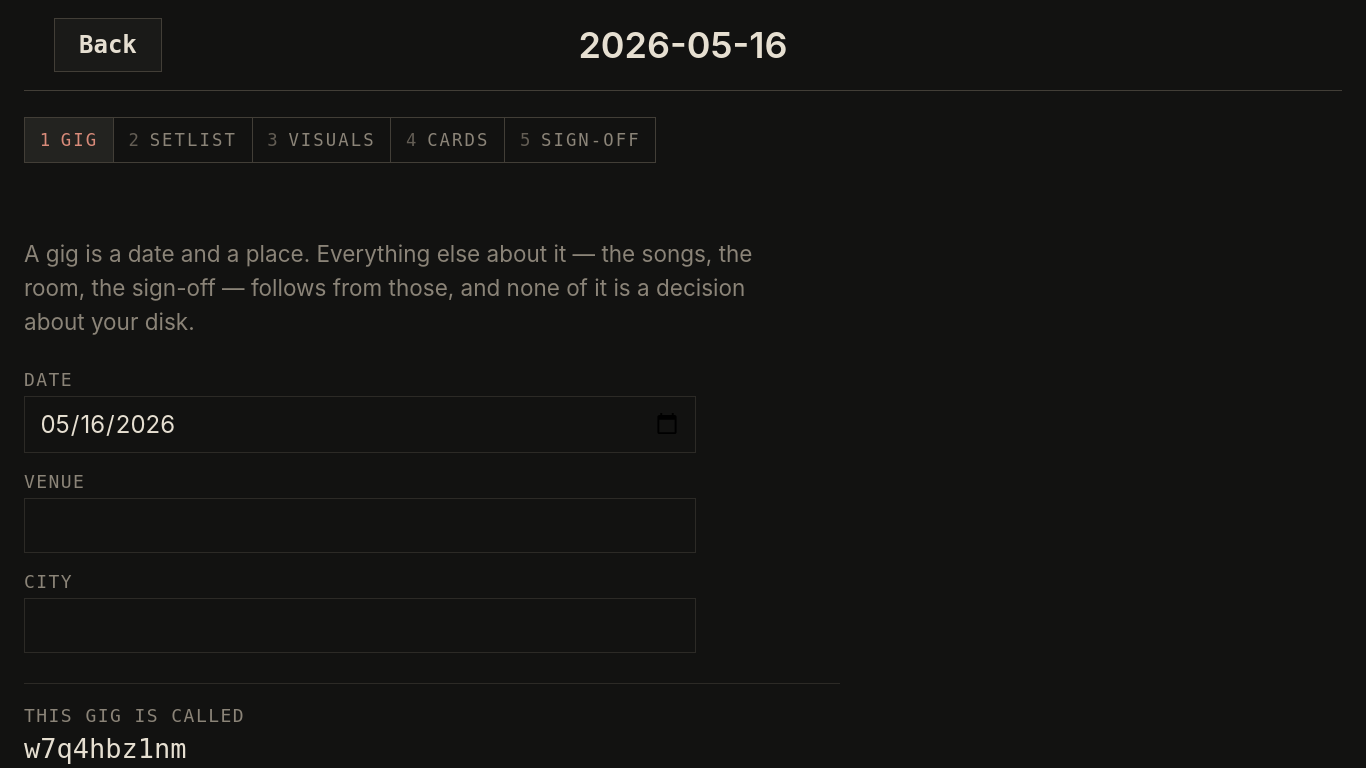
the check screen › fails the gig line when the night has no venue
Click the button with test id "gig-flow-step-5" at (580, 140), box left=505, top=118, right=655, bottom=162
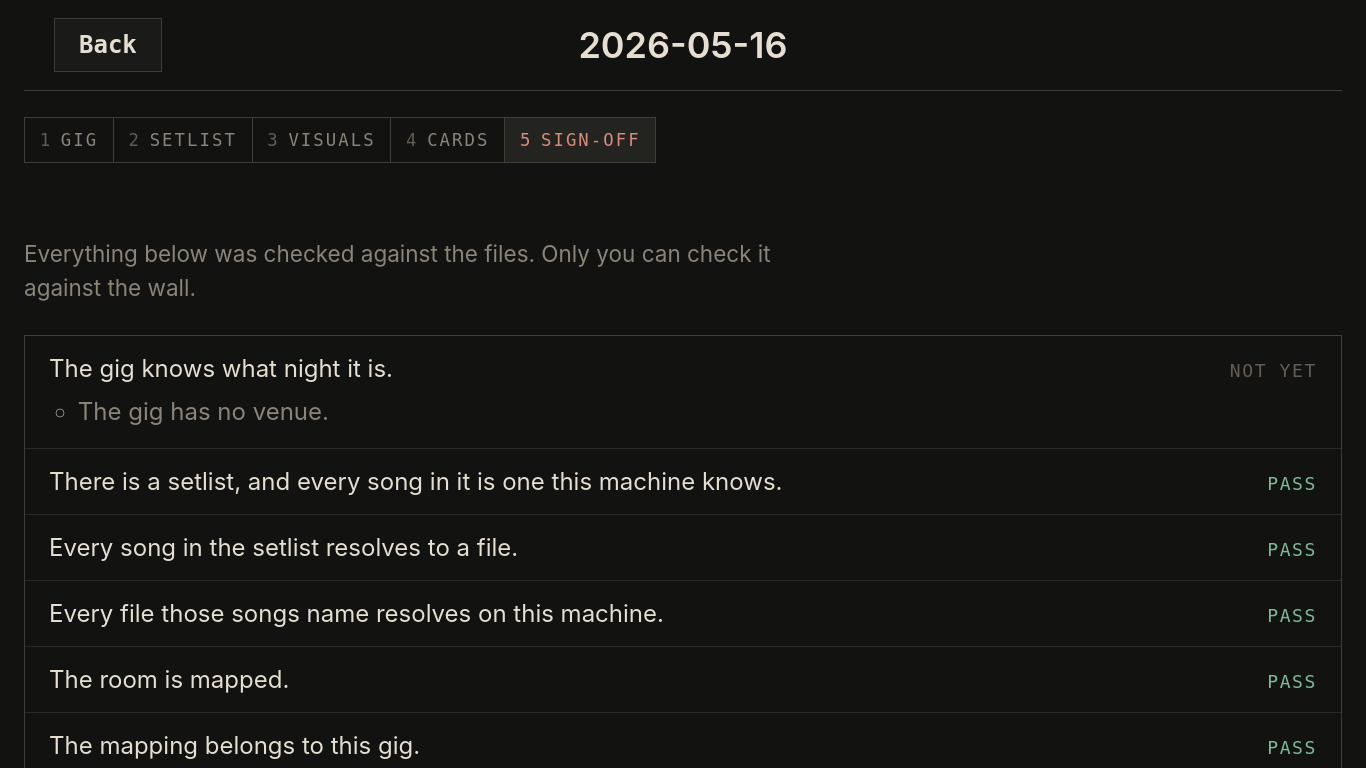
Result: the list with test id "gig-check-gig-detail" shows "venue" at left=78, top=397, right=329, bottom=426
